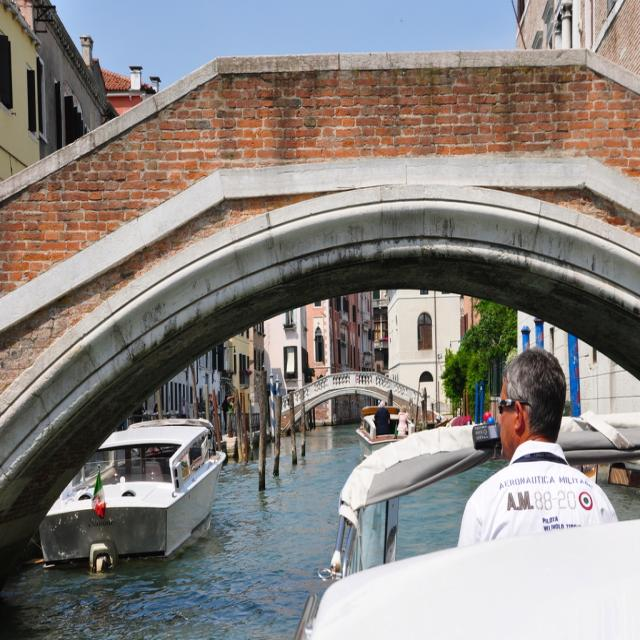Boat: (294, 404, 640, 640), (38, 403, 226, 566), (356, 398, 416, 456)
